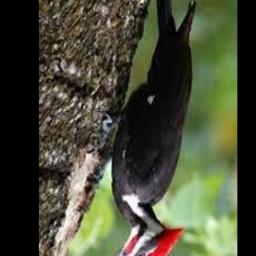Woodpecker: (93, 0, 195, 256)
